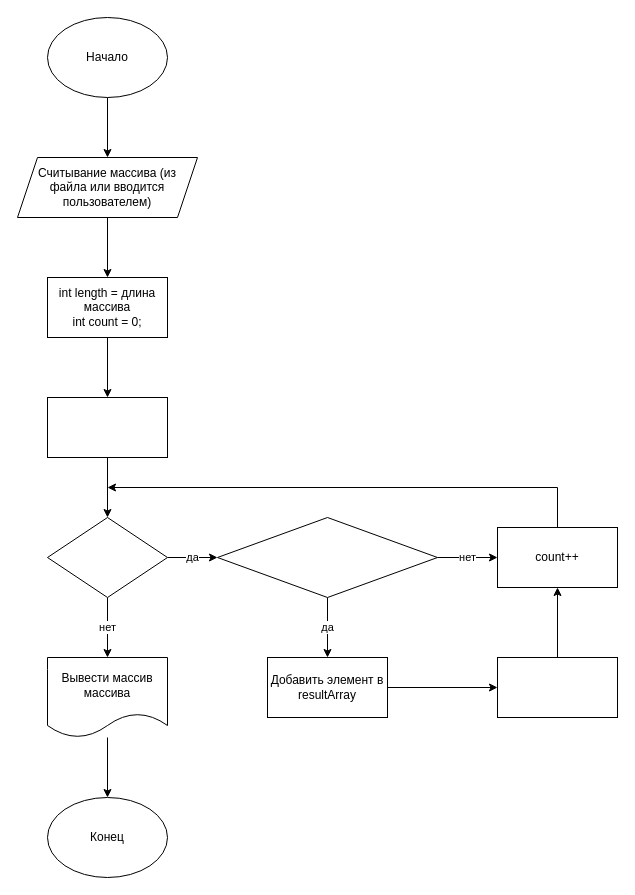
The diagram is 635 pixels wide and 895 high, and some of its shapes have lost their labels. Here are the shapes that lost their labels. From the top down, the centre of each, then its label:
the point at 107,427: Создание пустого одномерного массива resultArray
the point at 107,557: count < length
the point at 327,557: Длина элемента массива <= 3
the point at 557,687: Увеличить длину resultArray
